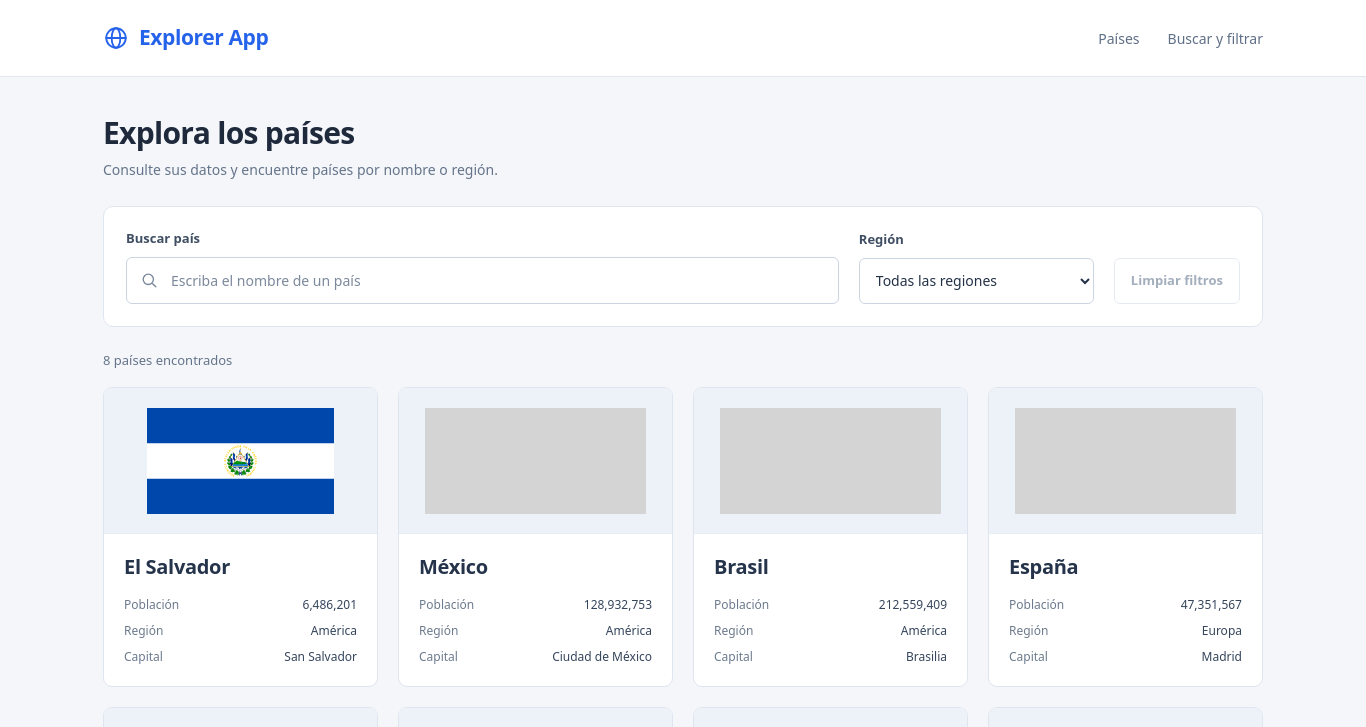
Test: países y filtros › combina la búsqueda y la región y comunica el estado sin resultados
Type "Japón" into the search field labelled "Buscar país" at {"x": 497, "y": 280}, box [169,258,825,302]
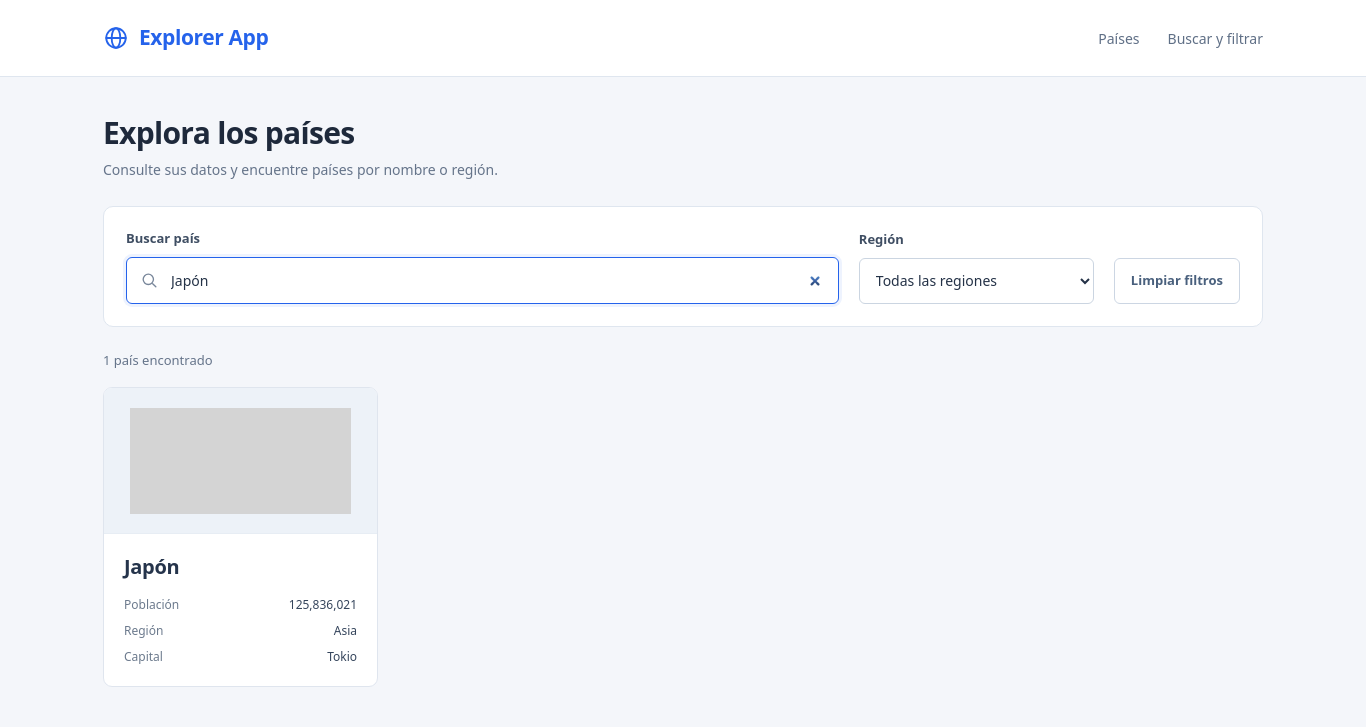
Select "Europa" in the dropdown labelled "Región" at {"x": 976, "y": 280}, box [859,258,1094,304]
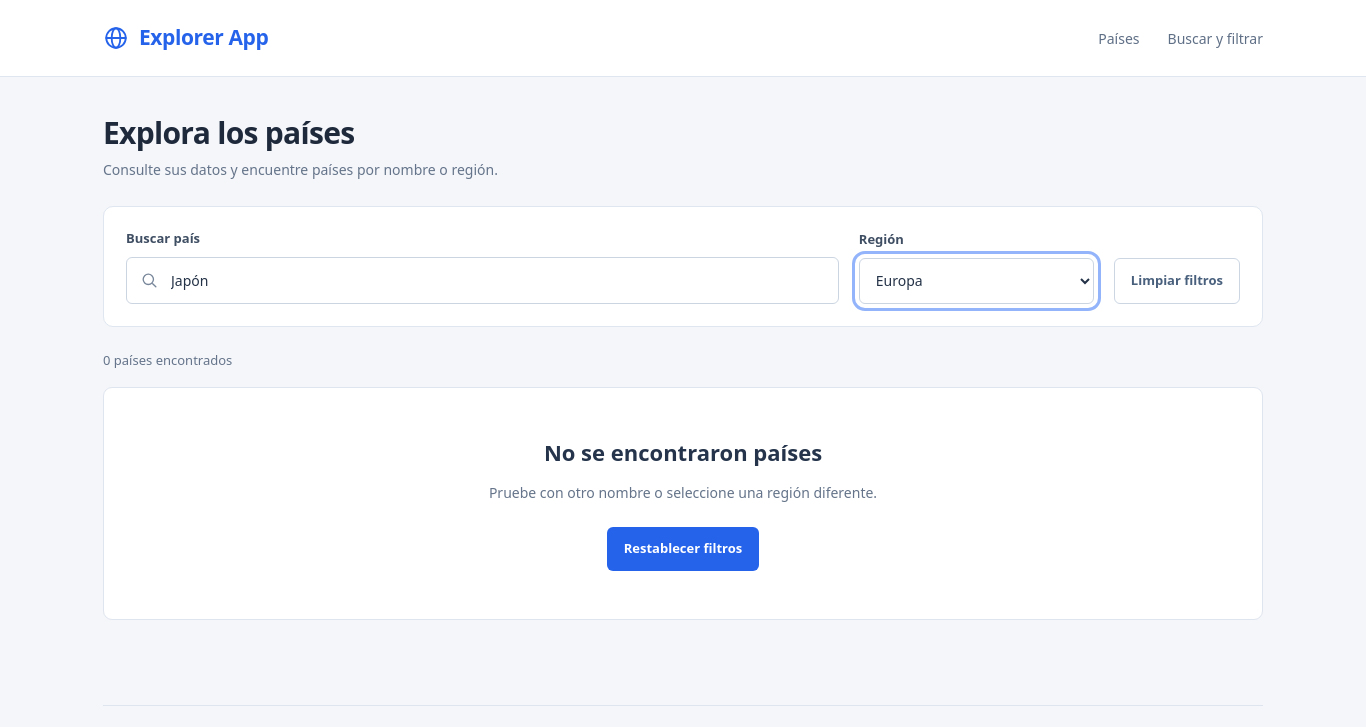
Expected: the heading "No se encontraron países" is shown, [544,437,822,467]
Expected: the message reads "0 países encontrados", [103,350,232,368]
Select "Asia" in the dropdown labelled "Región" at {"x": 976, "y": 280}, box [859,258,1094,304]
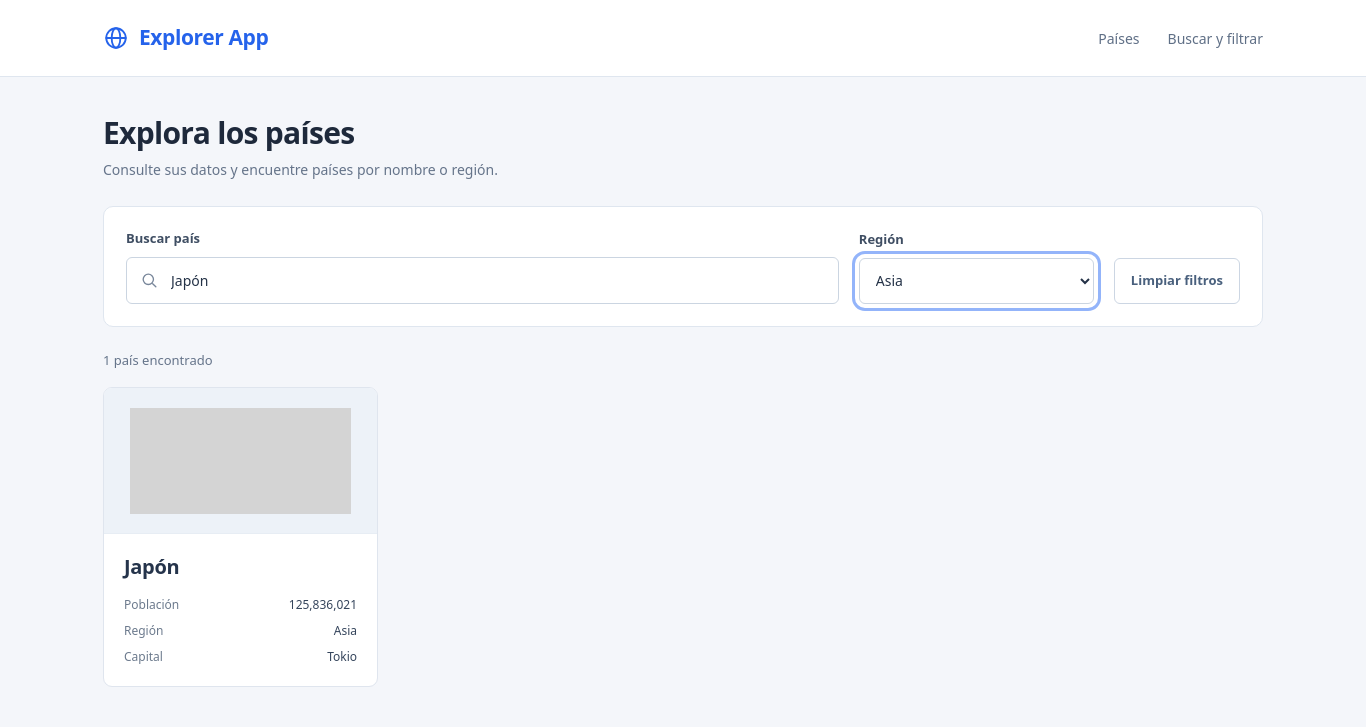
Expected: the element "Japón" is shown, [103,387,378,687]
